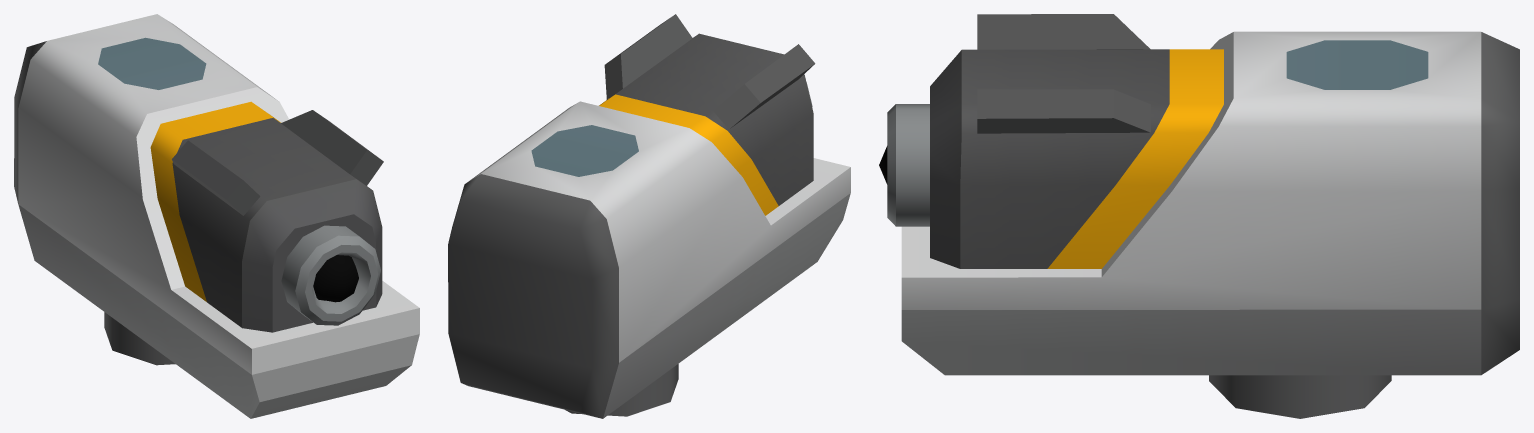
Rendered from Cam_012.fbx.
3 renders of one model, left to right at view 1: azimuth 30°, elevation 25°; view 2: azimuth 150°, elevation 25°; view 3: azimuth 270°, elevation 25°, orthographic. The views are drawn at different scales.
Parts seen in each view (by area): view 1: Cam_012; view 2: Cam_012; view 3: Cam_012.
Part boxes in pixels (x1,y1,x2,y2): Cam_012: (14,14,419,418); Cam_012: (448,14,850,418); Cam_012: (879,14,1519,418).
Bounding box in the file's own units: 16.38 × 43.56 × 24.68.
